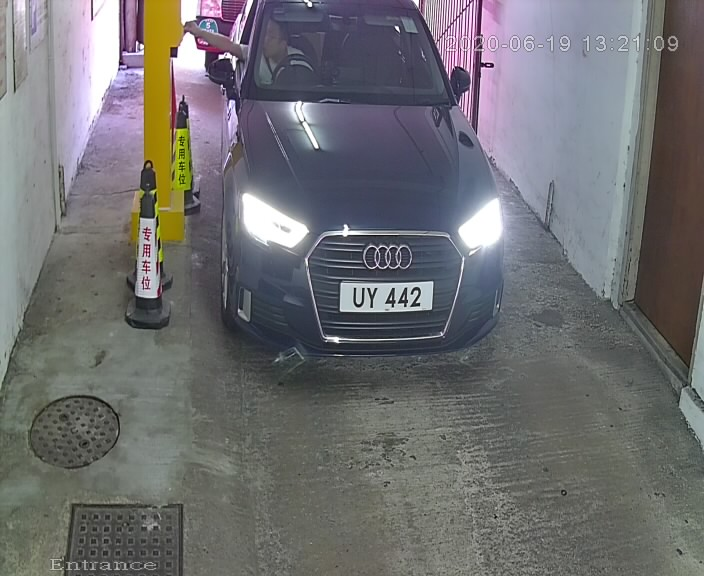privatecar: (194, 1, 520, 379)
